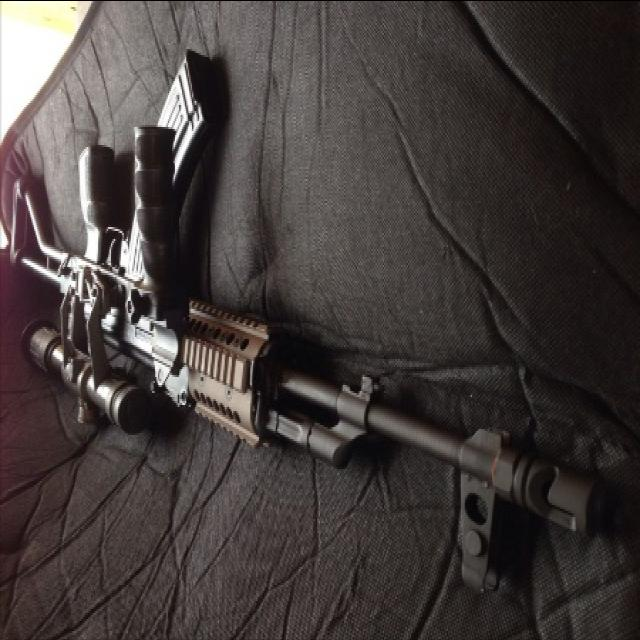rifle: (7, 51, 613, 609)
